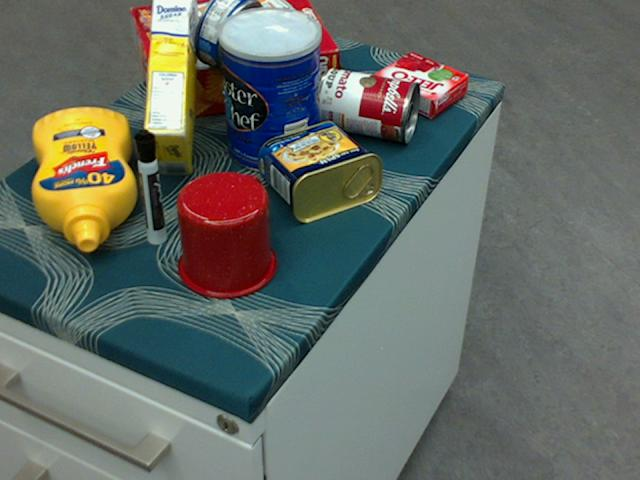cracker_box: (132, 0, 338, 122)
gelatin_box: (372, 53, 468, 116)
large_marker: (132, 129, 166, 243)
master_chef_can: (218, 6, 321, 173)
mug: (176, 169, 277, 297)
mustard_bottle: (31, 108, 135, 251)
potted_meat_can: (257, 118, 382, 223)
sugar_box: (145, 0, 198, 175)
tomato_soup_can: (315, 67, 421, 142)
tuna_fish_can: (194, 0, 265, 72)
